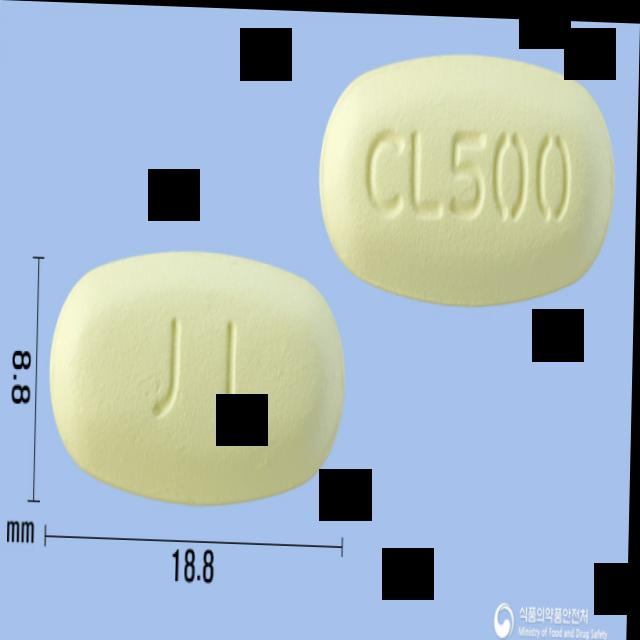Jecli: (49, 241, 348, 507), (318, 43, 618, 306)
